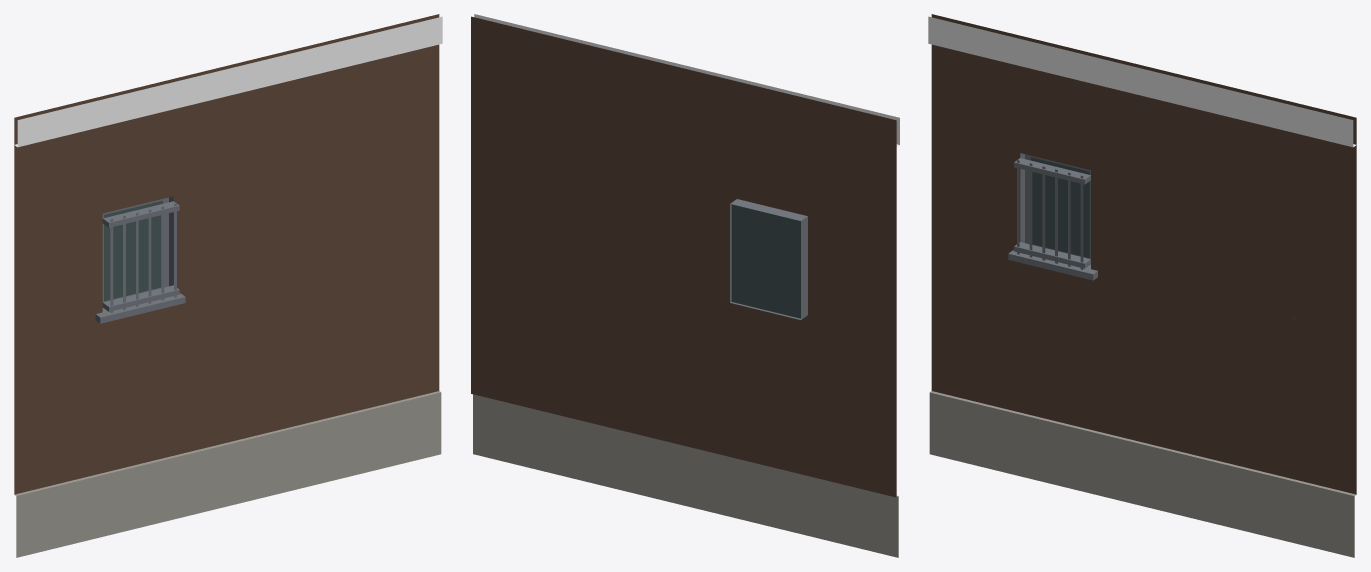
3 views of the same model, side by side, from view 1: azimuth 30°, elevation 25°; view 2: azimuth 150°, elevation 25°; view 3: azimuth 330°, elevation 25° (orthographic).
Parts seen in each view (by area): view 1: a2000s3/800/base-w4; view 2: a2000s3/800/base-w4; view 3: a2000s3/800/base-w4.
Part boxes in pixels (x1=…): a2000s3/800/base-w4: x1=14, y1=14, x2=442, y2=557; a2000s3/800/base-w4: x1=471, y1=14, x2=899, y2=557; a2000s3/800/base-w4: x1=928, y1=14, x2=1356, y2=557.
Bounding box in the file's own units: 3.6 × 3.55 × 0.19.
